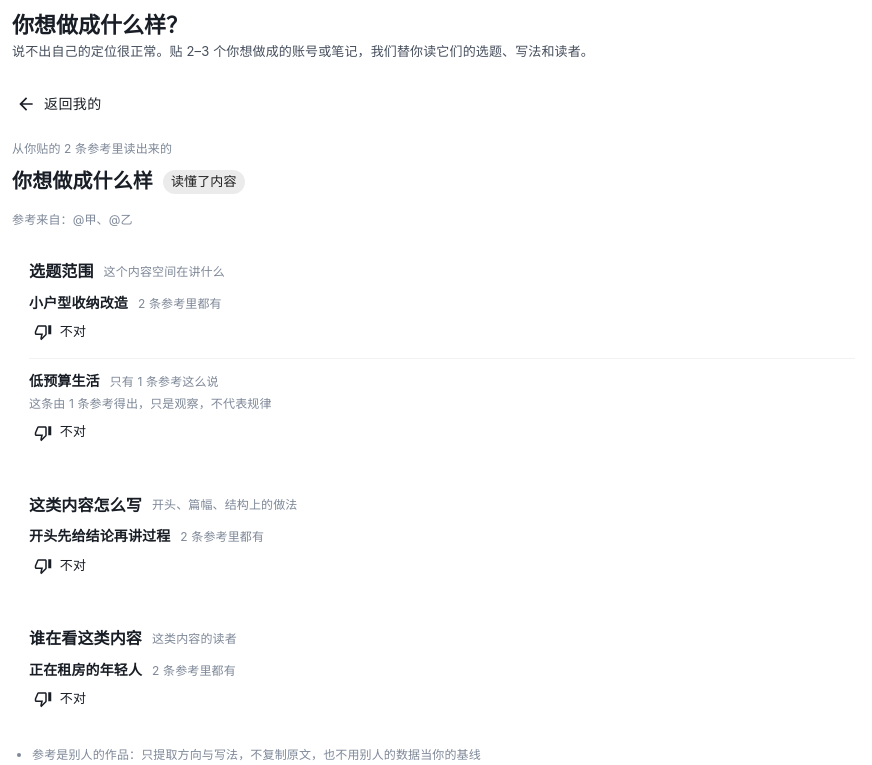
ReferenceAnchorPage › 「不对」把那条结论否掉，并带上版本号
expect the heading "你想做成什么样" is shown: met, box x1=12 y1=168 x2=153 y2=195
Click the button "不对" below "小户型收纳改造" at coordinates (61, 332), box x1=29 y1=317 x2=93 y2=348
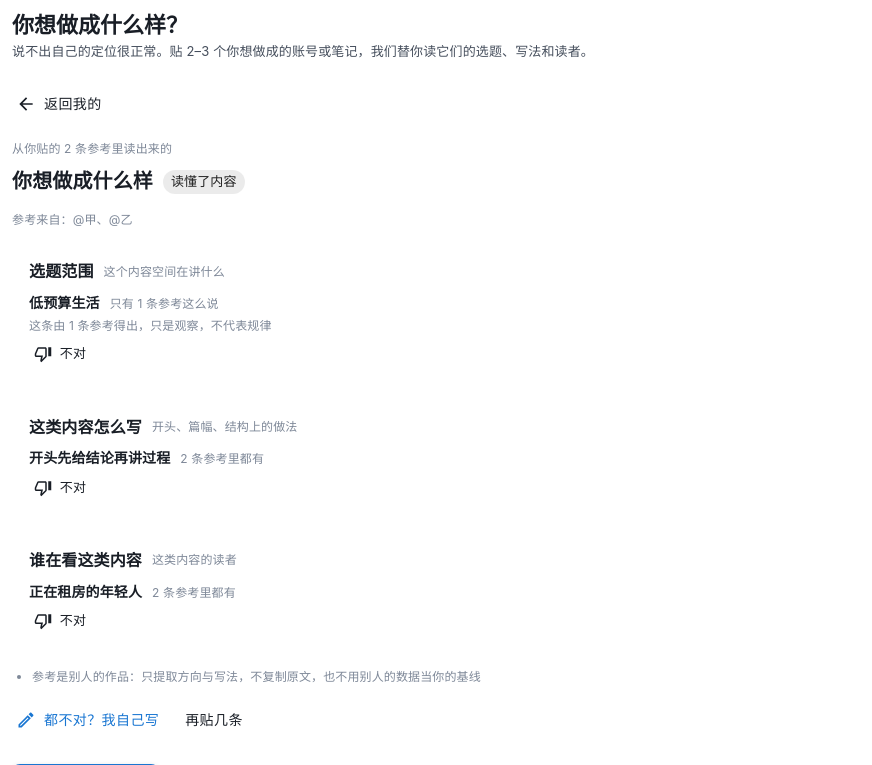
expect the text "小户型收纳改造" is gone: met
